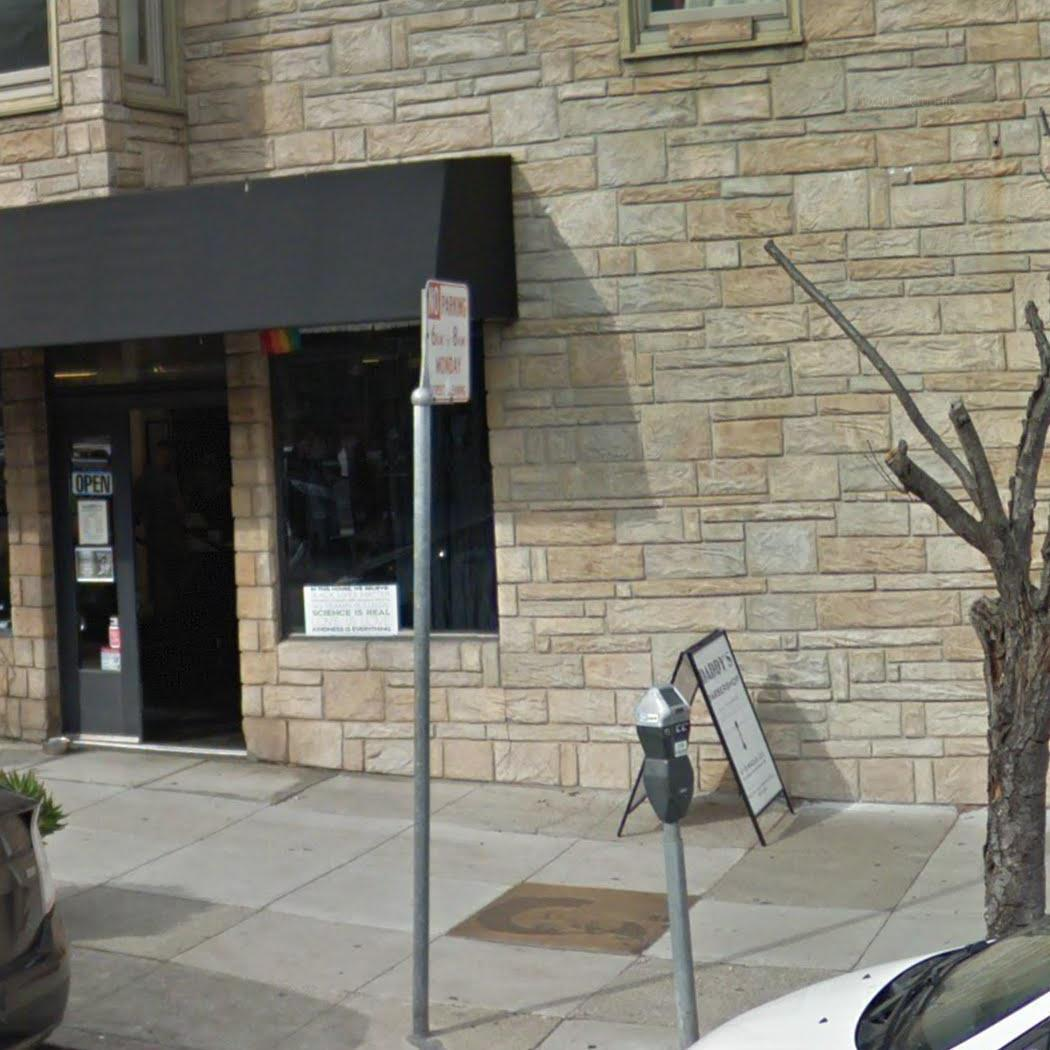No Parking: (420, 277, 475, 408)
